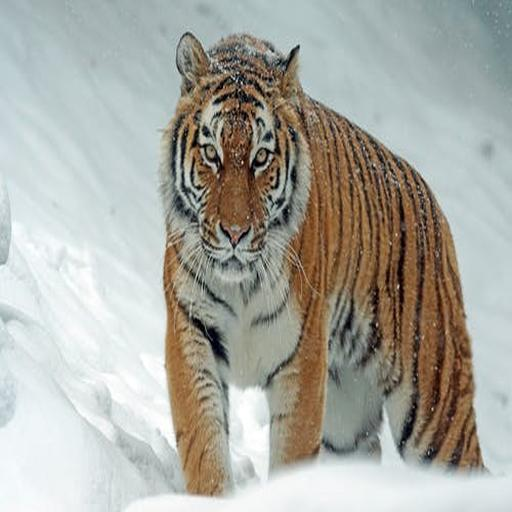Tiger: (157, 29, 495, 500)
